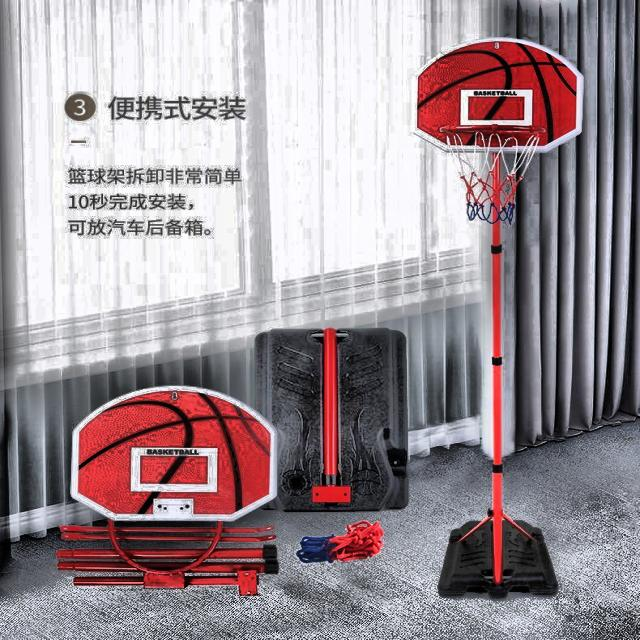rim: (442, 126, 547, 223)
